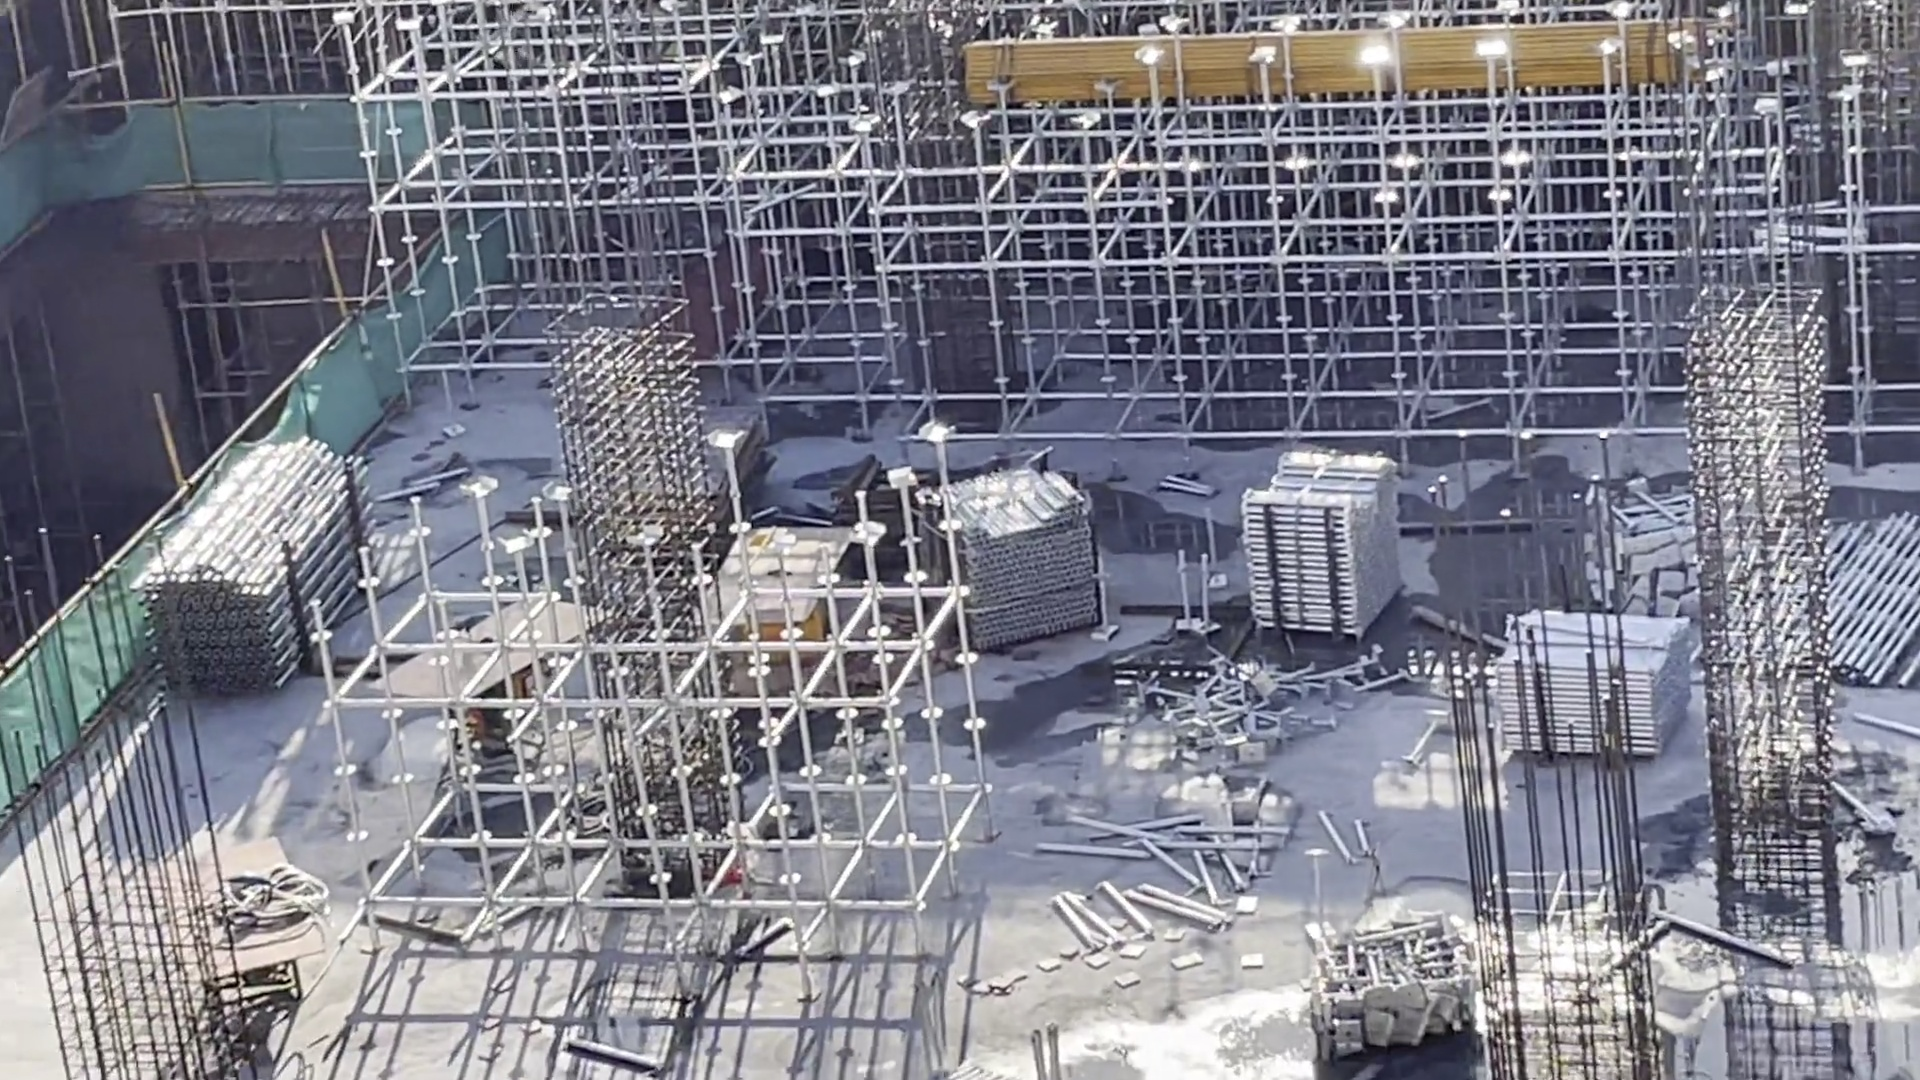cutter: (375, 608, 591, 814), (721, 541, 858, 705), (182, 858, 305, 1000)
scaffold: (179, 455, 356, 680), (1743, 506, 1920, 675), (1249, 454, 1400, 638), (922, 481, 1085, 638), (1507, 615, 1683, 758)
